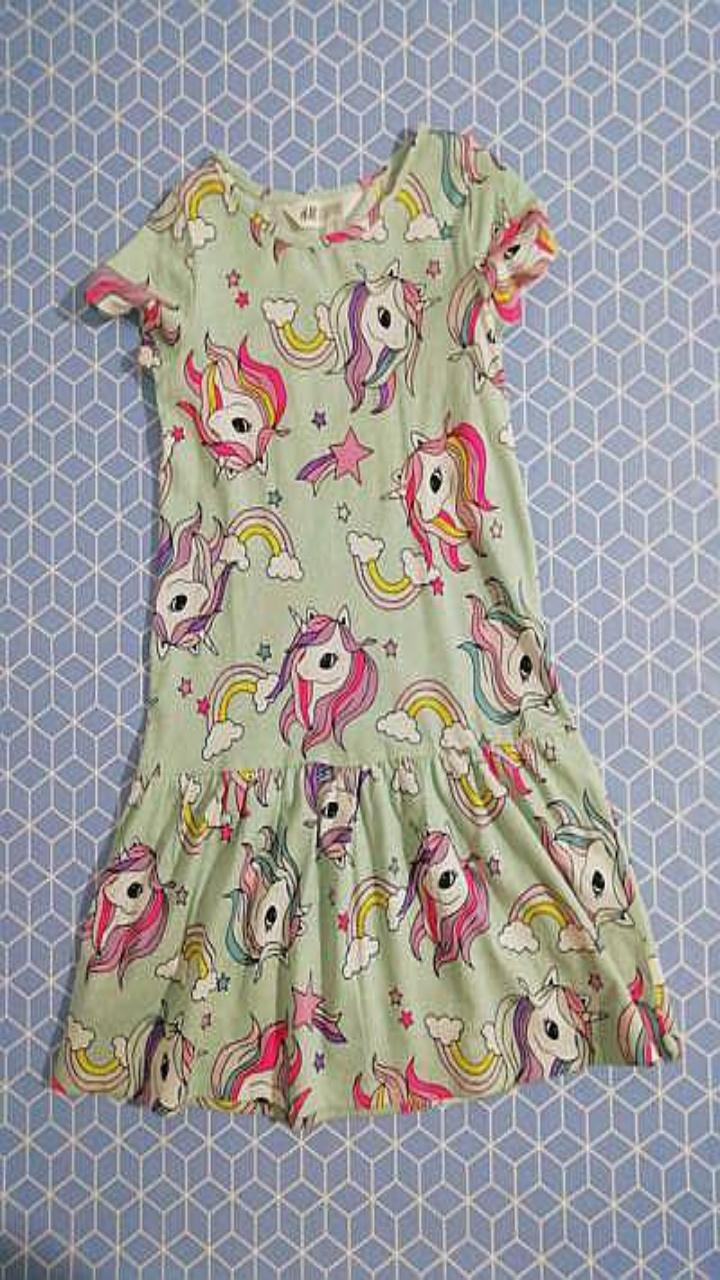Dresses: (52, 125, 680, 1131)
